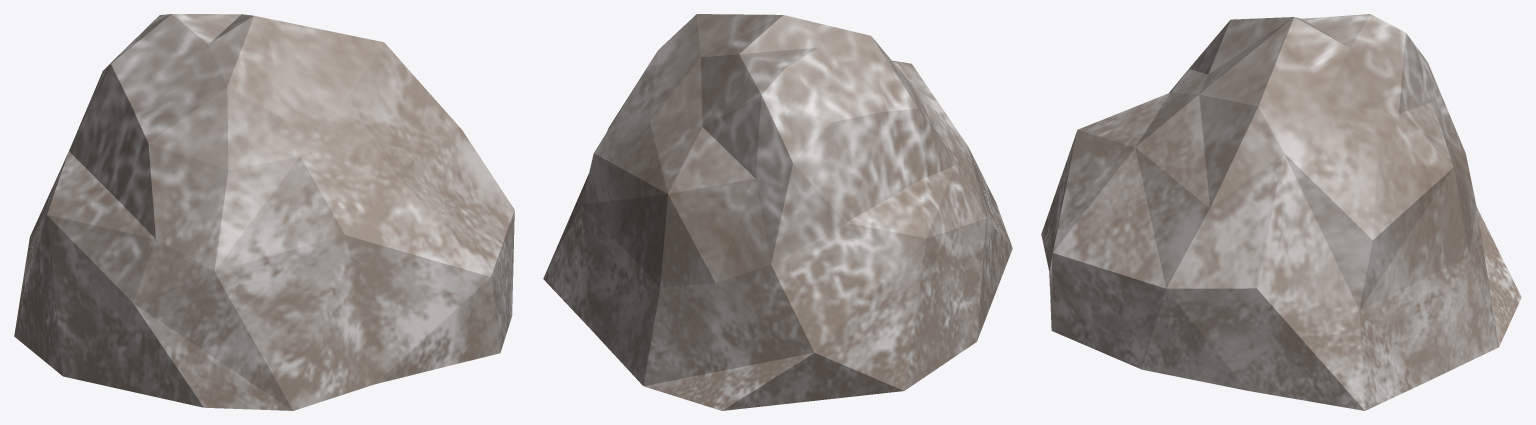
File: 50.001_Baked.fbx
The picture shows the model from 3 angles, left to right: view 1: azimuth 30°, elevation 25°; view 2: azimuth 150°, elevation 25°; view 3: azimuth 270°, elevation 25°; orthographic projection. The views are drawn at different scales.
Parts seen in each view (by area): view 1: 50.001_Baked; view 2: 50.001_Baked; view 3: 50.001_Baked.
Boxes of the visible parts, x1,y1,x2,y2 form: 50.001_Baked: [14, 14, 514, 410]; 50.001_Baked: [543, 14, 1012, 410]; 50.001_Baked: [1041, 14, 1521, 410].
Size of the model in its own units: 9.39 by 7.03 by 9.84.
